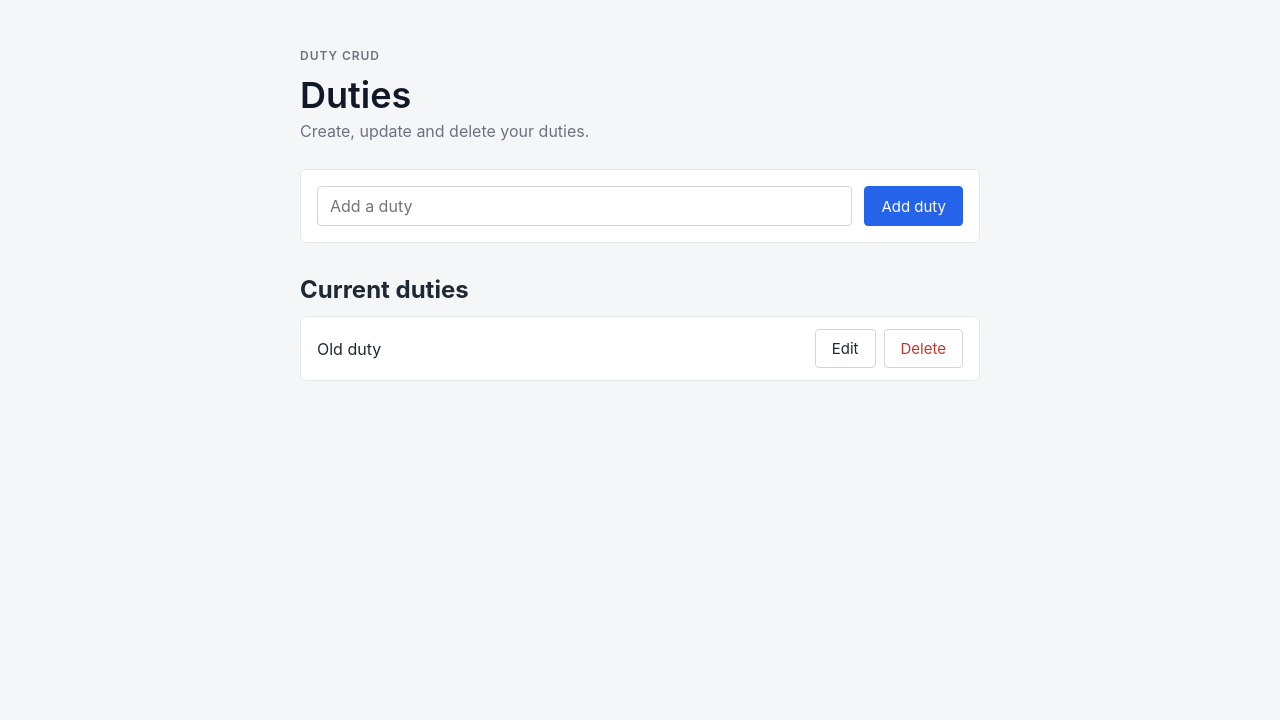
Scenario: App › removes a deleted duty from the list after confirming
The width and height of the screenshot is (1280, 720).
Click the button with aria-label "Delete Old duty".
click(923, 348)  # box [884,329,963,368]
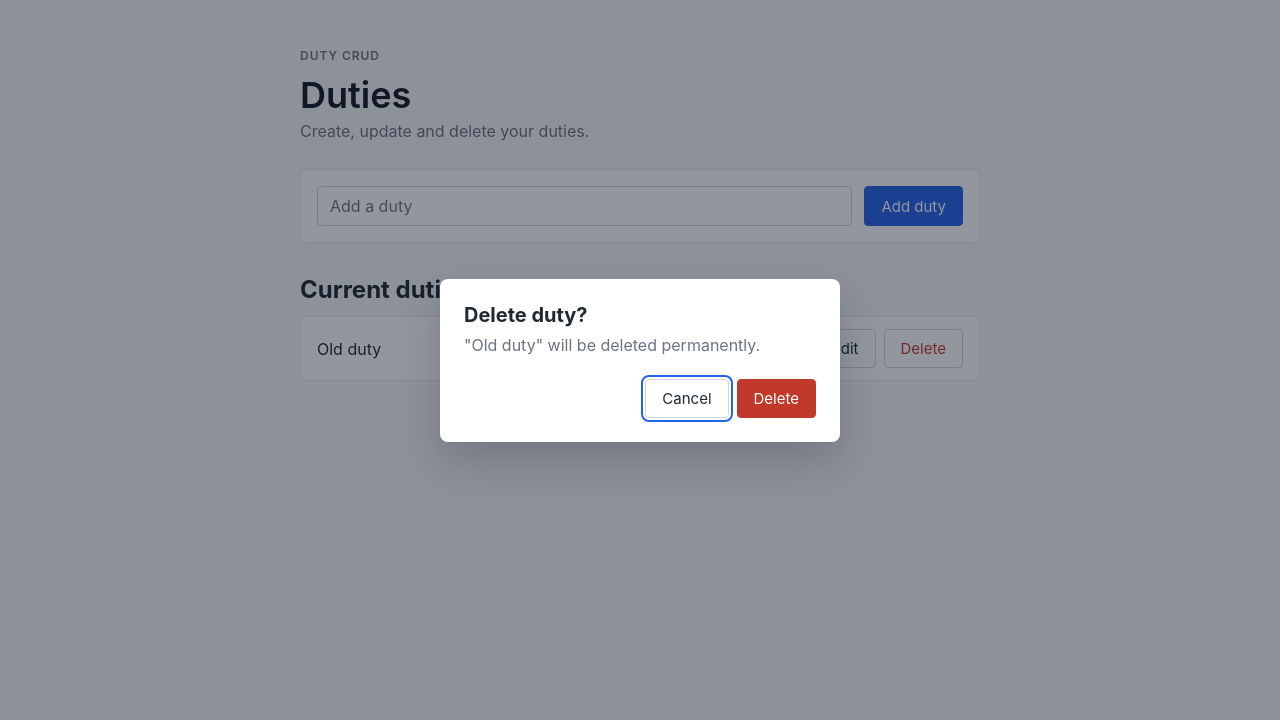
Click the button "Delete".
click(776, 398)  # box [736,378,816,418]
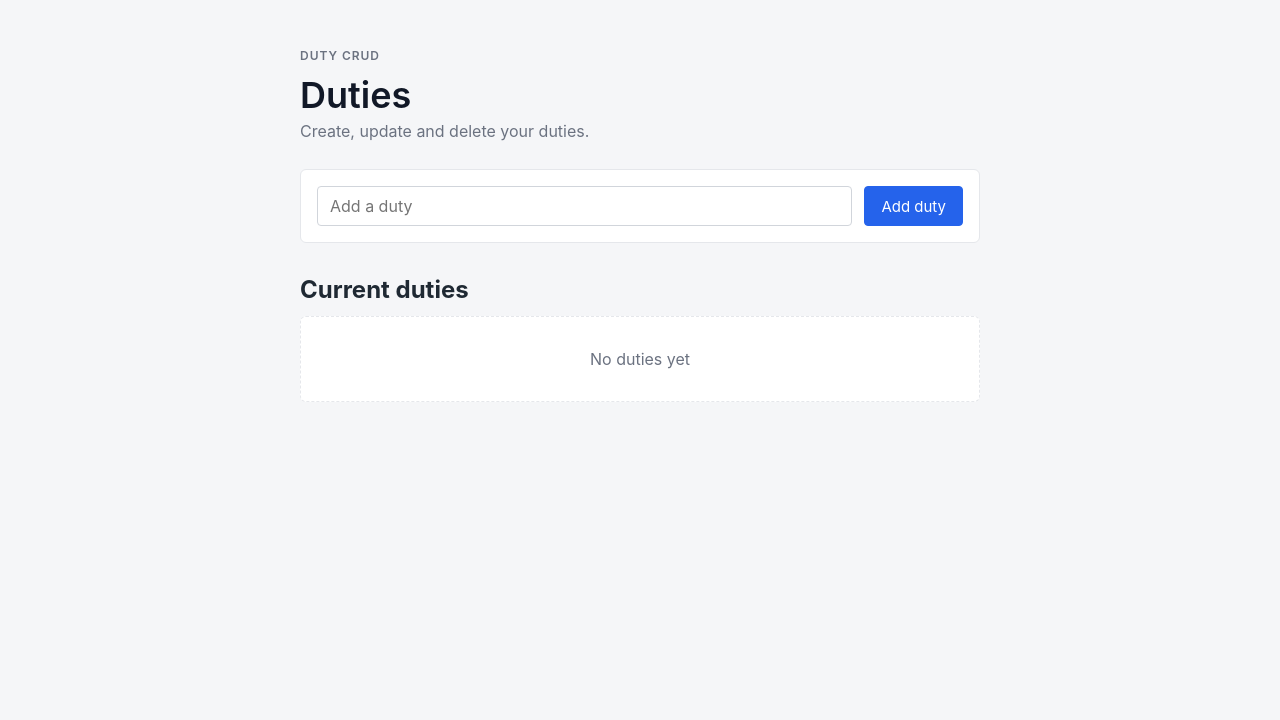
Now the text "Old duty" is gone
Now the text "No duties yet" is shown, box [300,316,980,402]
Now the dialog is gone
